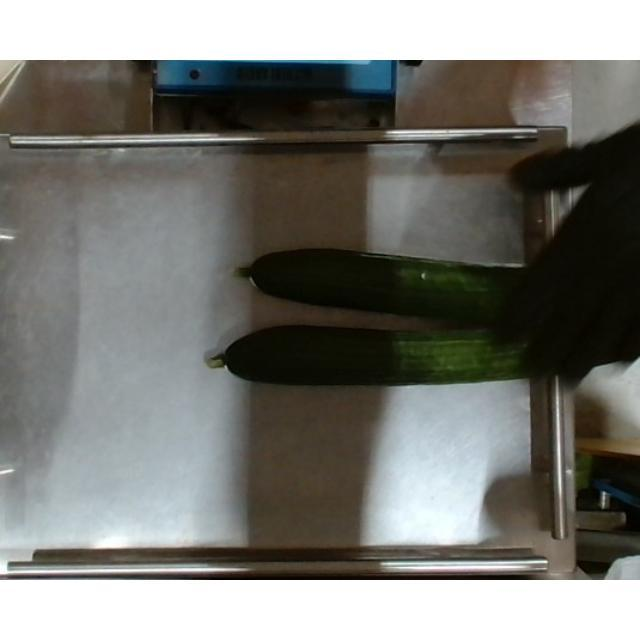cucumber: (232, 240, 568, 316), (205, 326, 567, 388)
